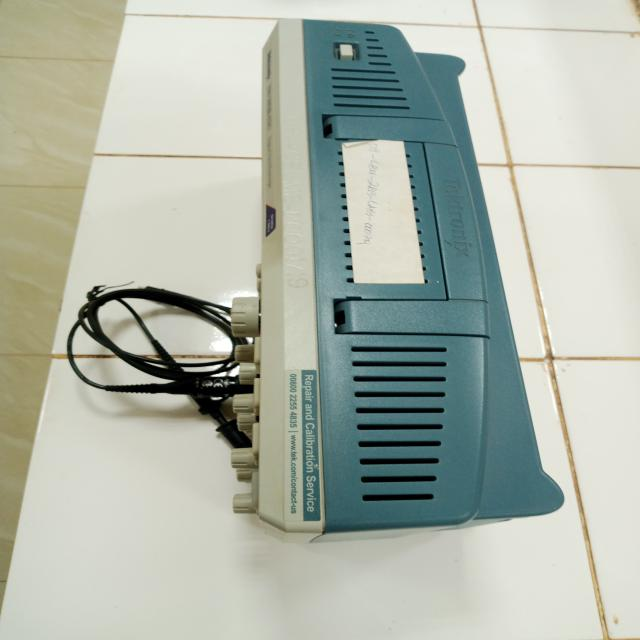Digital Oscilloscope: (192, 3, 586, 545)
